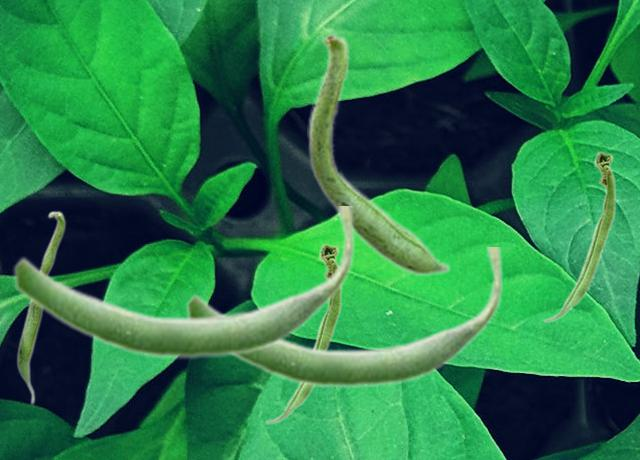french_bean: (12, 206, 355, 360), (185, 247, 503, 389), (307, 30, 450, 276), (264, 242, 341, 424), (542, 150, 615, 322), (16, 210, 65, 405)
